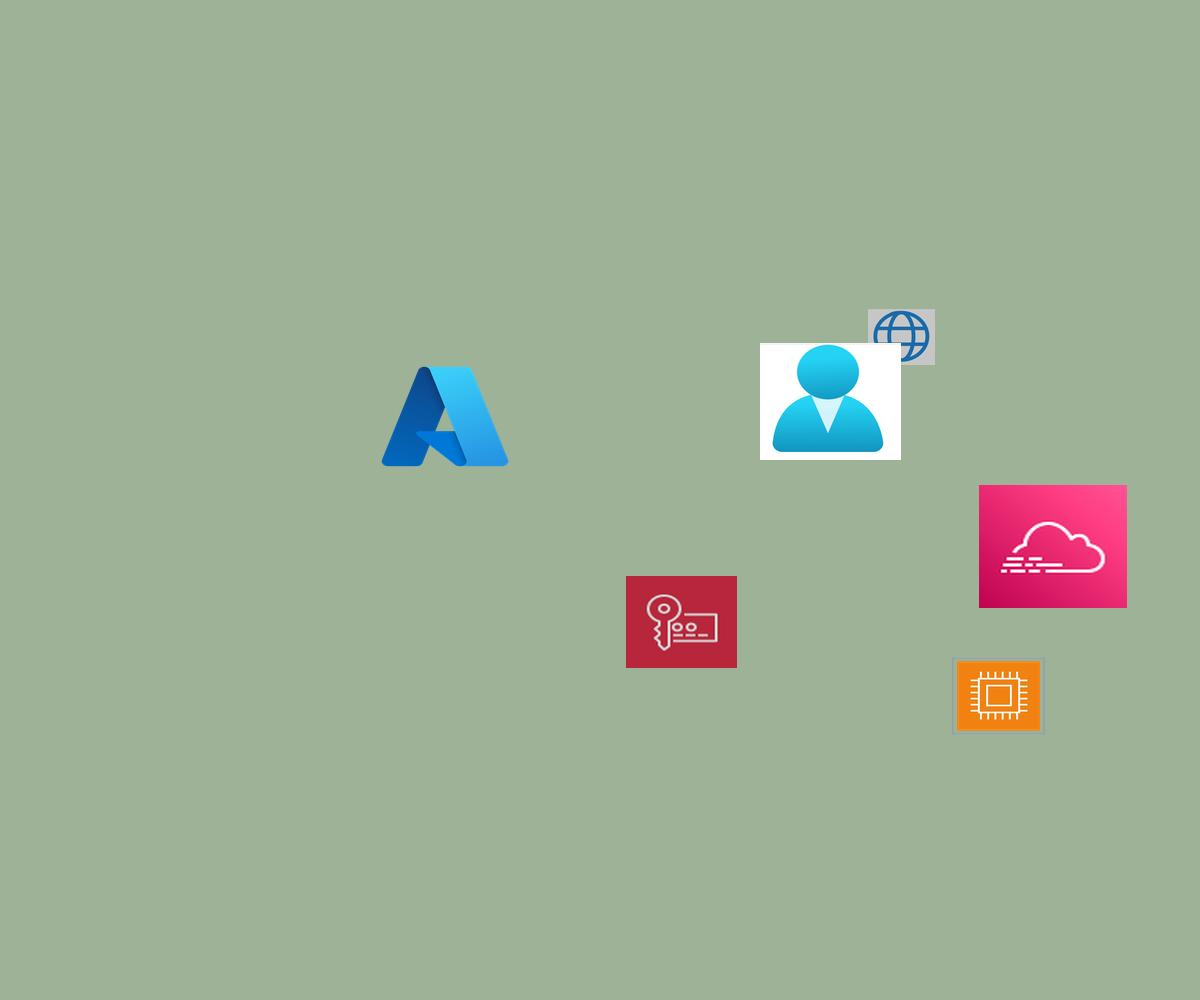AWS-Category_Compute: (952, 657, 1045, 735)
AWS-CloudTrail: (979, 485, 1127, 608)
AWS-Key-Management-Service: (626, 576, 737, 668)
Azure_http: (868, 309, 935, 365)
Azure_services: (376, 359, 514, 474)
Azure_users: (760, 343, 901, 460)
